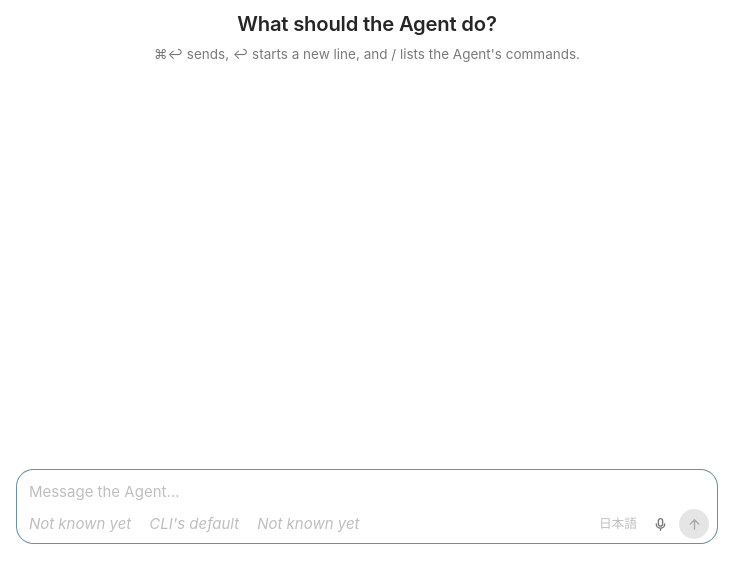
dictating in the composer › streams 16 kHz to main, and puts the words at the caret unsent
Type "これを" into the text box named "Message to the Agent" at (369, 491), box [29, 478, 709, 505]
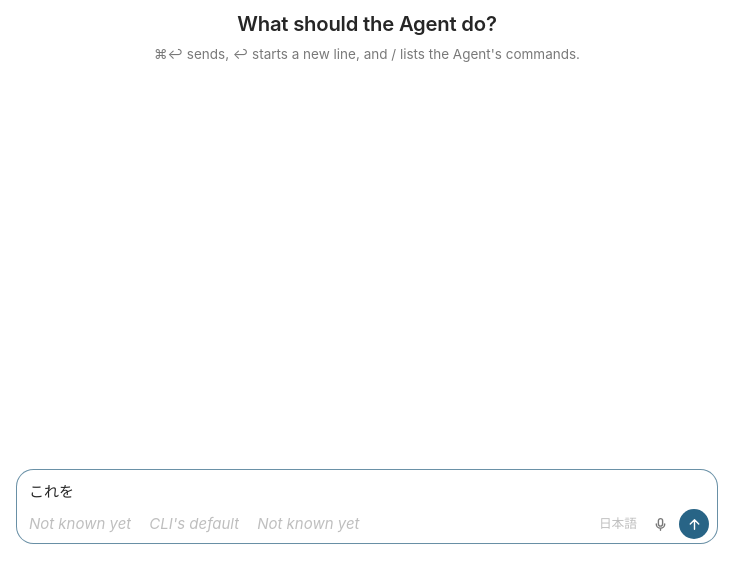
Click the button named "Dictate" at (660, 524), box [645, 509, 675, 539]
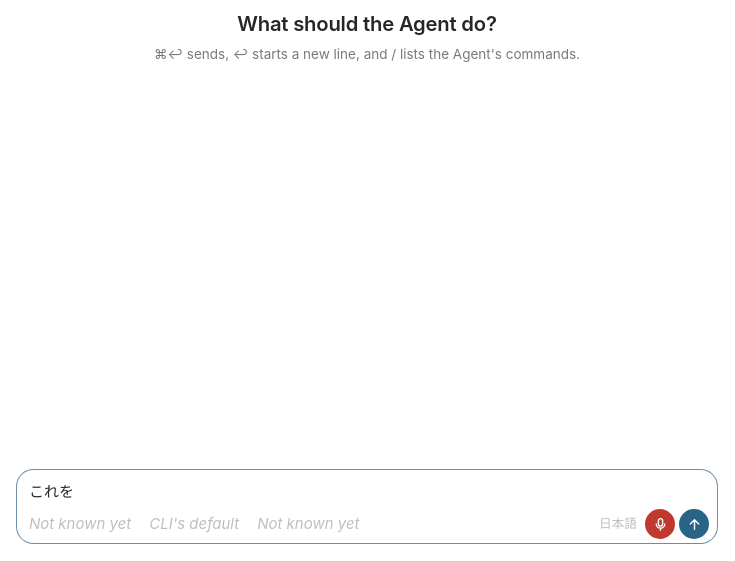
Now the button named "Stop dictating" is shown
Click the button named "Stop dictating" at (660, 524), box [645, 509, 675, 539]
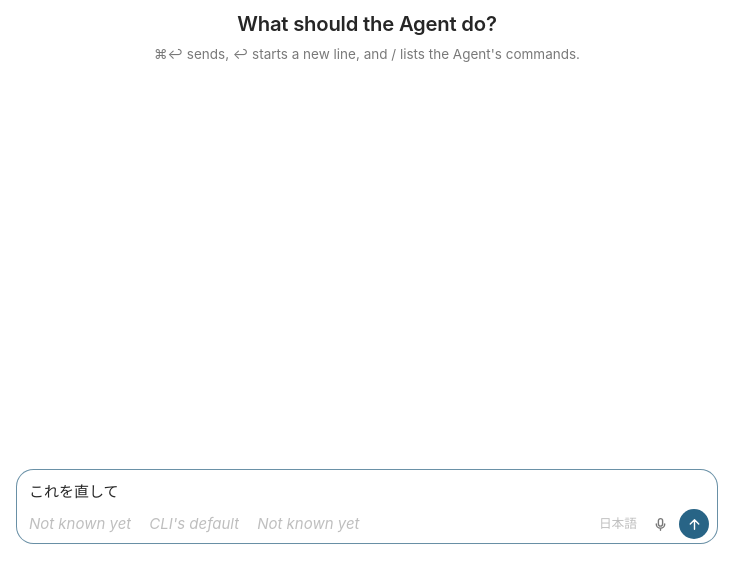
Now the text box named "Message to the Agent" holds "これを直して", box [29, 478, 709, 505]
